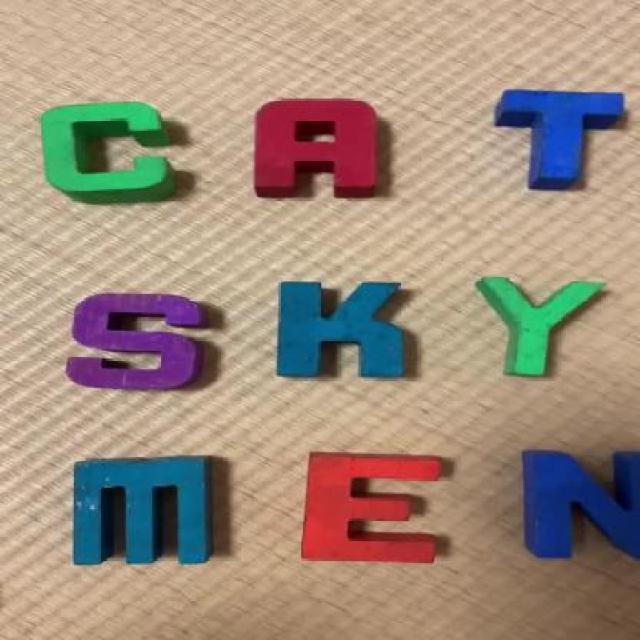A: (258, 98, 382, 197)
C: (41, 102, 177, 205)
E: (308, 454, 450, 557)
K: (282, 282, 410, 382)
M: (76, 455, 213, 562)
S: (66, 293, 208, 390)
T: (501, 88, 625, 190)
Y: (474, 276, 598, 378)
